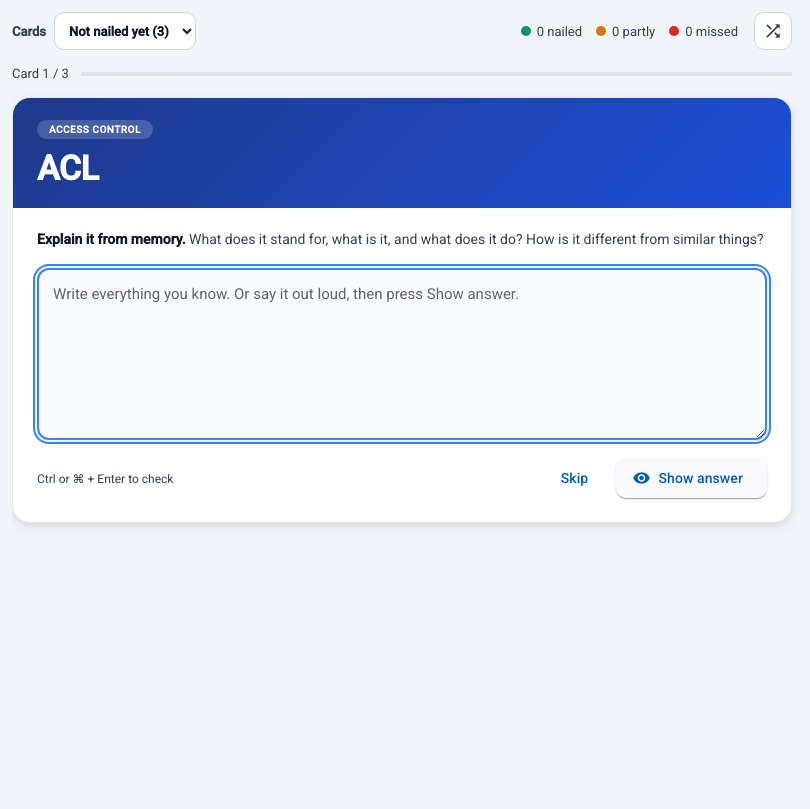
Scenario: BrainDumpComponent › shows the checklist after "Show answer": the letters, then the key points
Replace the text in the text box with class "bd-input" with "rules that allow or deny" at (402, 354), box [37, 268, 767, 440]
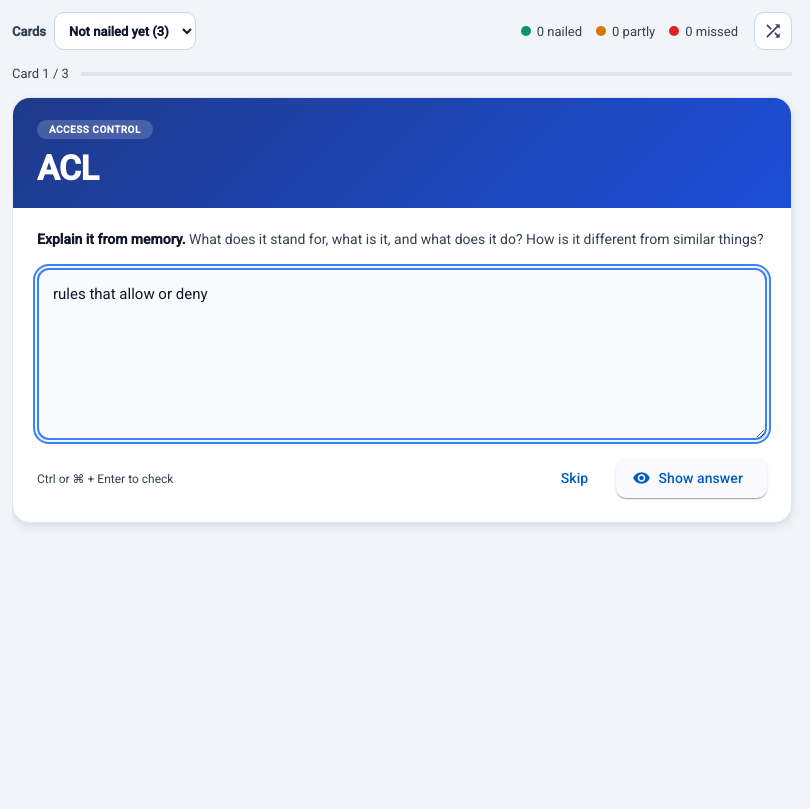
Click the button "Show answer" at (692, 478), box [616, 458, 767, 498]
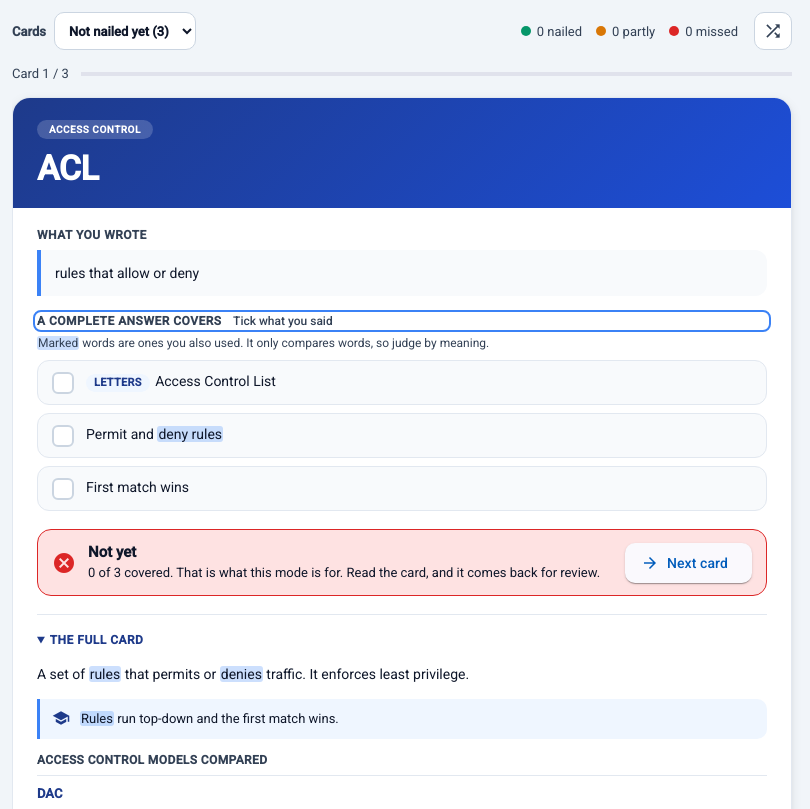
Check: the text box with class "bd-input" is gone
Check: the text with class "bd-quote" reads "rules that allow or deny", box [55, 265, 199, 281]
